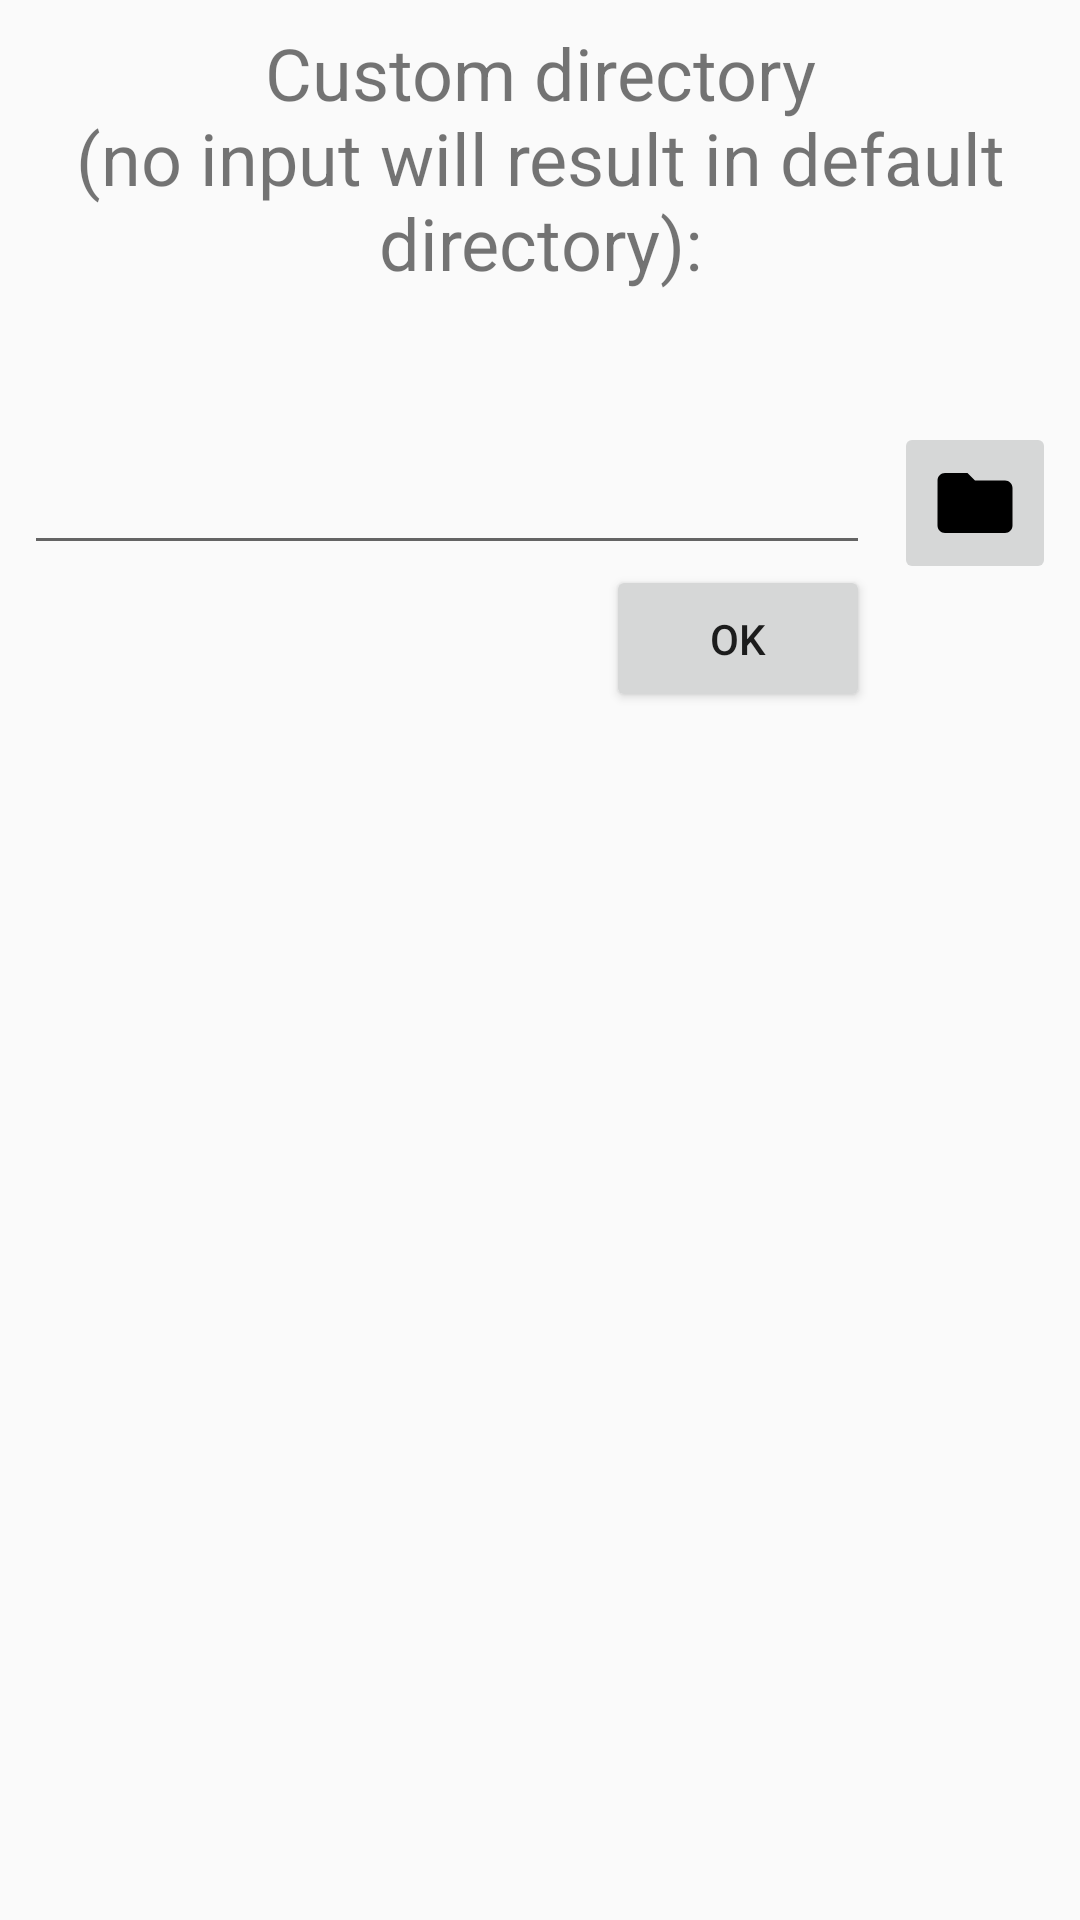

Icon click points for this 1080×1920 phone screenshot, format [x,y]:
folder: [975,503]
